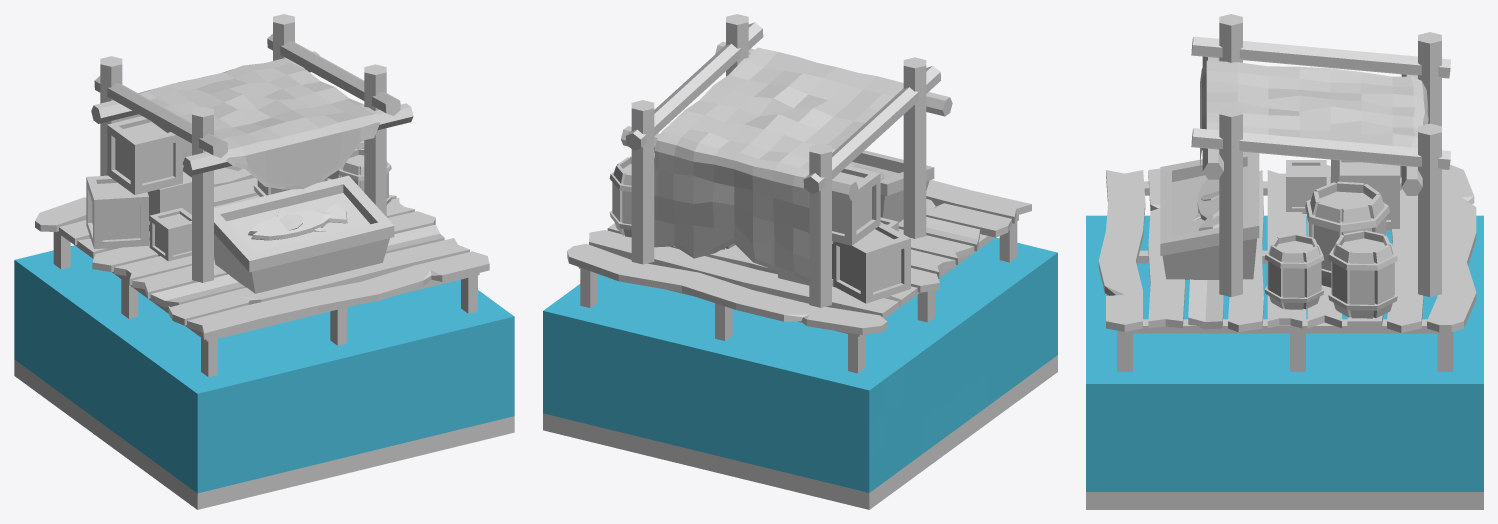
Rendered from PortShop1.fbx.
The picture shows the model from 3 angles, left to right: view 1: azimuth 30°, elevation 25°; view 2: azimuth 150°, elevation 25°; view 3: azimuth 270°, elevation 25°; orthographic projection. The views are drawn at different scales.
Parts seen in each view (by area): view 1: PortShop1; view 2: PortShop1; view 3: PortShop1.
Boxes of the visible parts, x1,y1,x2,y2 form: PortShop1: (14,14,514,509); PortShop1: (543,14,1057,509); PortShop1: (1086,14,1483,509).
Bounding box in the file's own units: 2 × 2 × 2.
